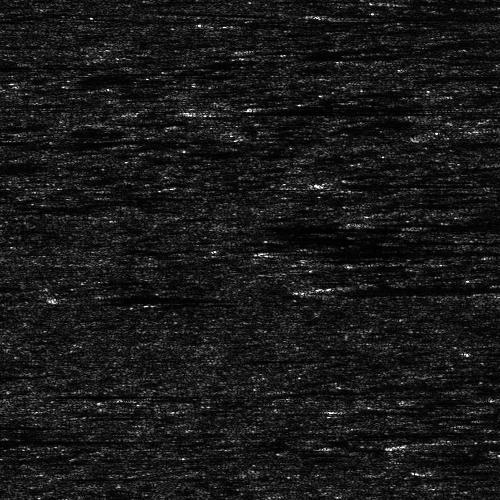object: (236, 280, 413, 299), (246, 175, 413, 190), (197, 219, 290, 232), (289, 10, 382, 19), (457, 286, 500, 299), (158, 107, 231, 114), (245, 248, 318, 255), (358, 0, 431, 2), (65, 297, 106, 300), (412, 443, 443, 446)
shadow: (324, 280, 500, 299), (329, 175, 457, 190), (244, 219, 367, 232), (282, 248, 500, 255), (335, 10, 500, 19), (195, 107, 386, 114), (0, 436, 182, 441), (86, 297, 257, 300), (395, 0, 500, 2), (428, 443, 490, 446), (59, 390, 114, 393)
